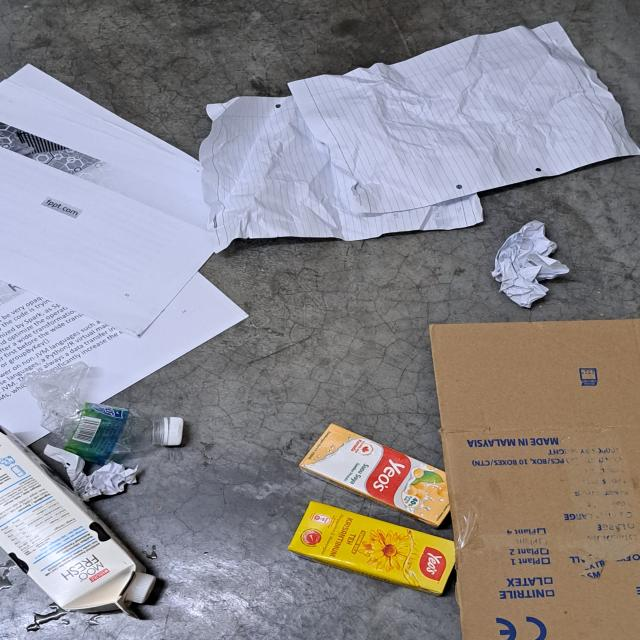cardboard: (425, 317, 640, 640)
drink carton: (0, 431, 158, 615), (287, 500, 457, 594), (300, 424, 451, 529)
paper: (198, 21, 640, 238), (0, 61, 246, 443), (495, 216, 570, 308), (43, 444, 143, 504)
plastic bottle: (30, 361, 188, 448)
plastic bottle cap: (120, 571, 154, 608), (161, 416, 183, 446)
